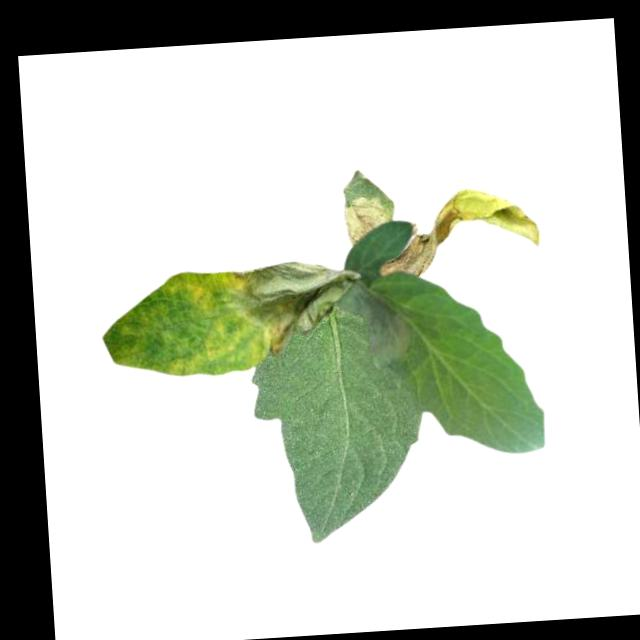Late_blight: (376, 184, 546, 281), (232, 257, 362, 357), (335, 276, 418, 372), (343, 194, 392, 249)
